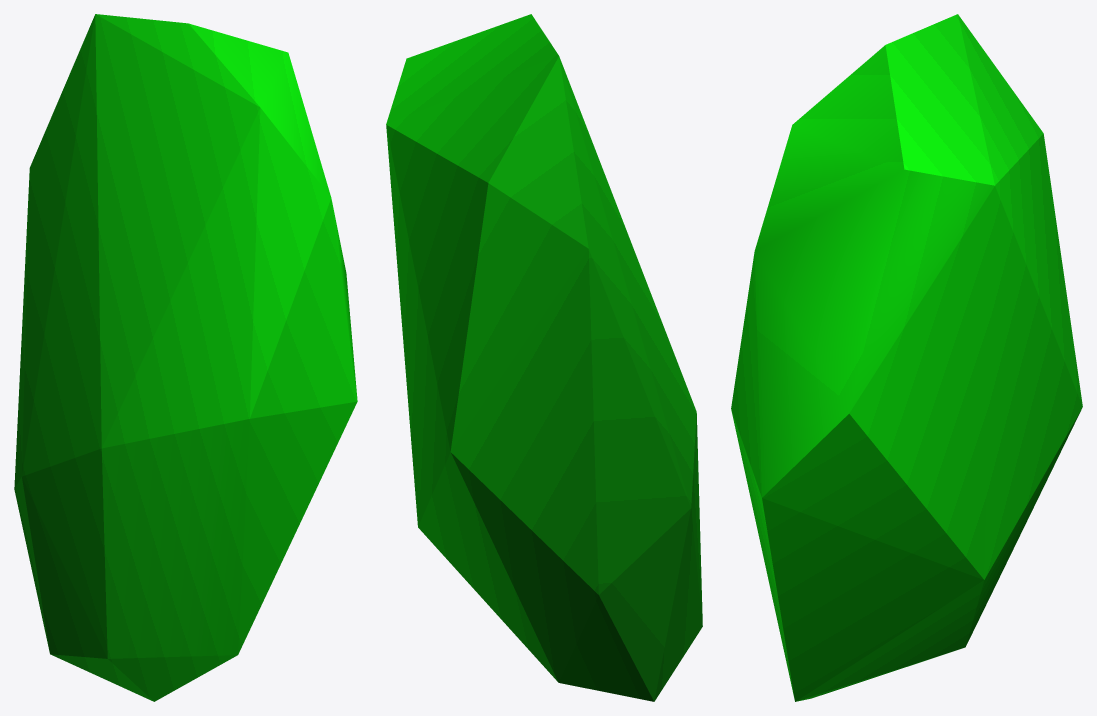
Rendered from Prefab_Foliage_Tree_Birch_Leaves_F.glb.
3 renders of one model, left to right at view 1: azimuth 30°, elevation 25°; view 2: azimuth 150°, elevation 25°; view 3: azimuth 270°, elevation 25°, orthographic. The views are drawn at different scales.
Parts seen in each view (by area): view 1: BirchTree_B_Trunk.004; view 2: BirchTree_B_Trunk.004; view 3: BirchTree_B_Trunk.004.
Boxes of the visible parts, x1=… form: BirchTree_B_Trunk.004: x1=14, y1=14, x2=357, y2=701; BirchTree_B_Trunk.004: x1=386, y1=14, x2=702, y2=701; BirchTree_B_Trunk.004: x1=731, y1=14, x2=1082, y2=701.
Size of the model in its own units: 1 by 2.04 by 0.9411.
1 material, 1 textured.
